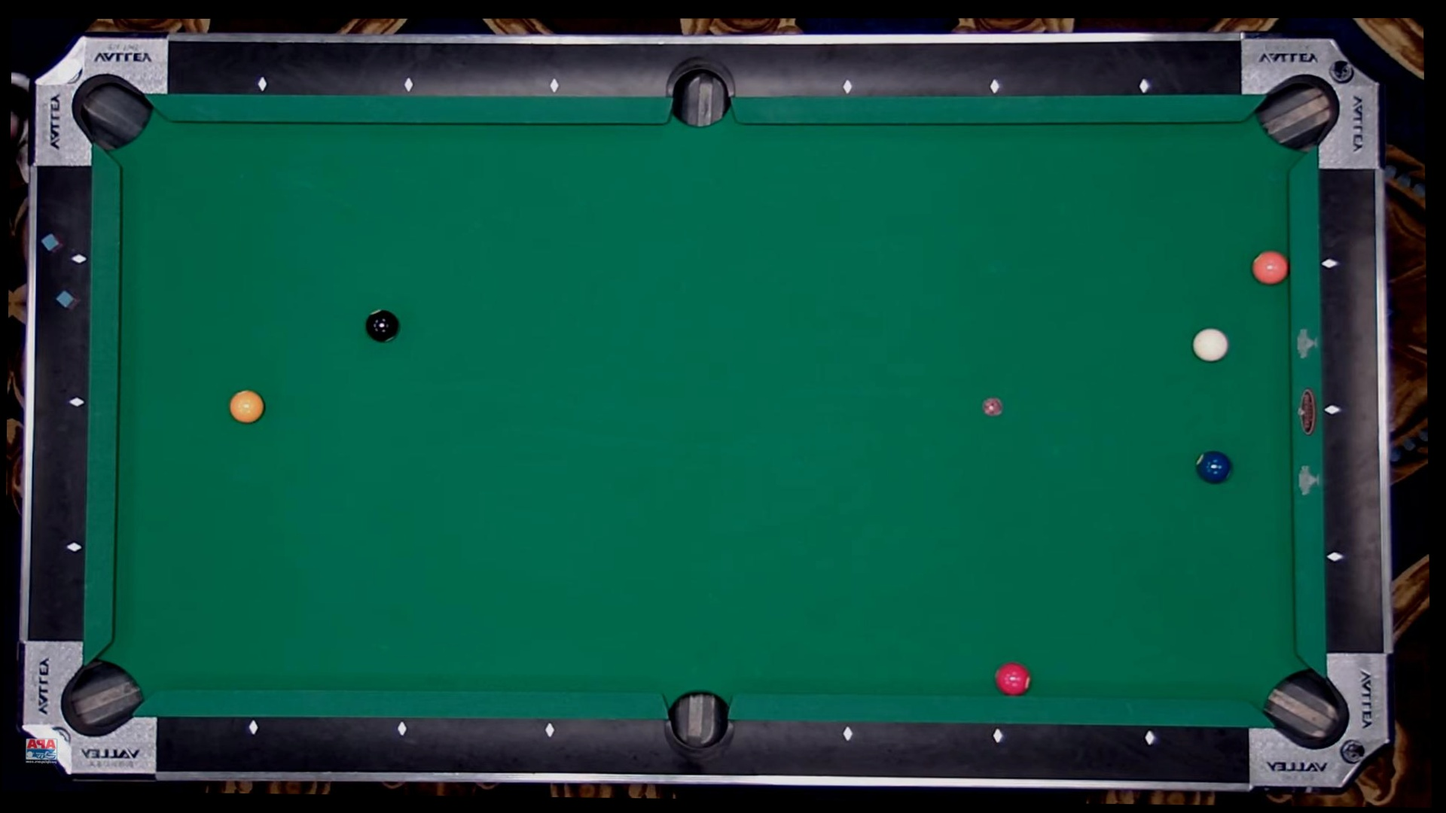Black: (1331, 552, 1342, 563), (73, 255, 84, 266), (71, 398, 82, 409), (397, 724, 408, 735), (1327, 405, 1338, 415), (1325, 257, 1336, 267), (1137, 81, 1148, 91), (990, 80, 1000, 91), (843, 82, 853, 93), (548, 80, 559, 90), (403, 80, 414, 90), (258, 79, 268, 90), (70, 541, 80, 552), (248, 723, 259, 733), (844, 729, 855, 739), (994, 731, 1005, 741), (1145, 733, 1156, 743), (546, 725, 556, 735)
Cue: (229, 389, 265, 424), (1252, 250, 1288, 285), (994, 662, 1030, 696), (1196, 450, 1231, 483)
Solid: (363, 308, 400, 343)
Stripe: (1192, 328, 1227, 363)
